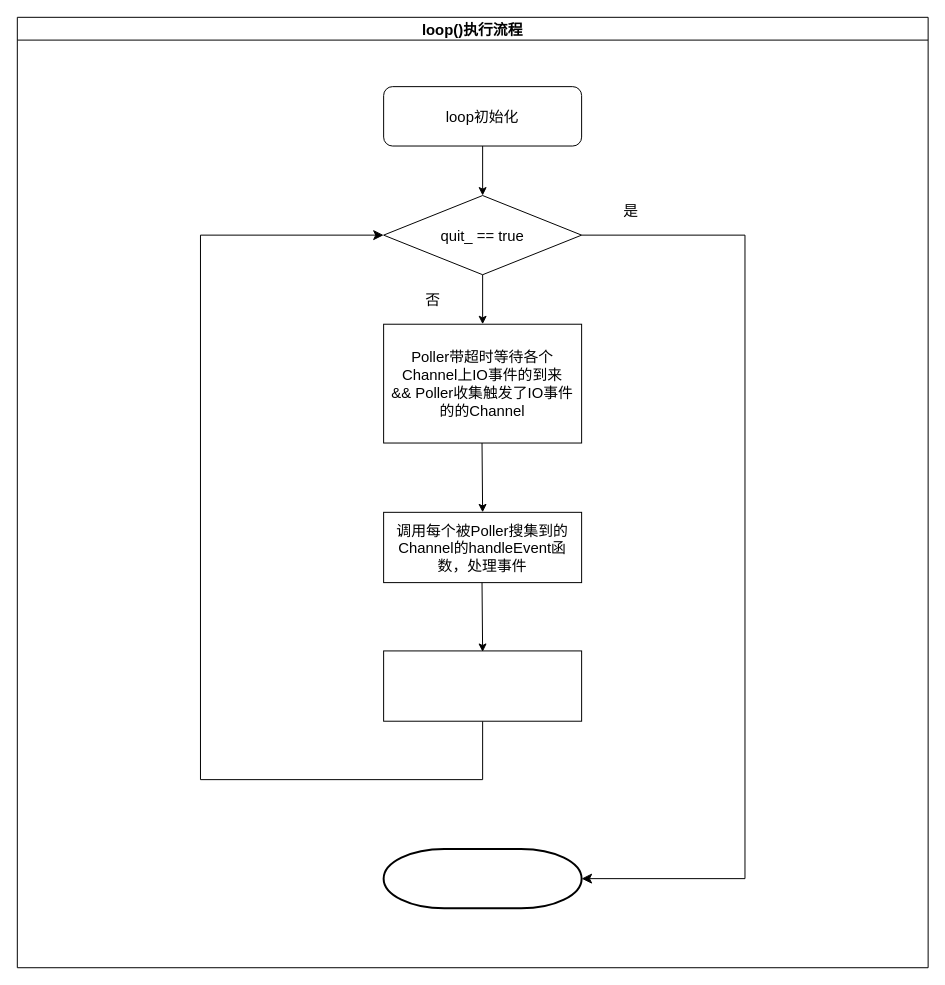
The diagram is 945 pixels wide and 985 high, and some of its shapes have lost their labels. Here are the shapes that lost their labels. From the top down, the centre of each, then its label:
[482,685]: 处理任务队列里的回调任务
[482,878]: loop善后
